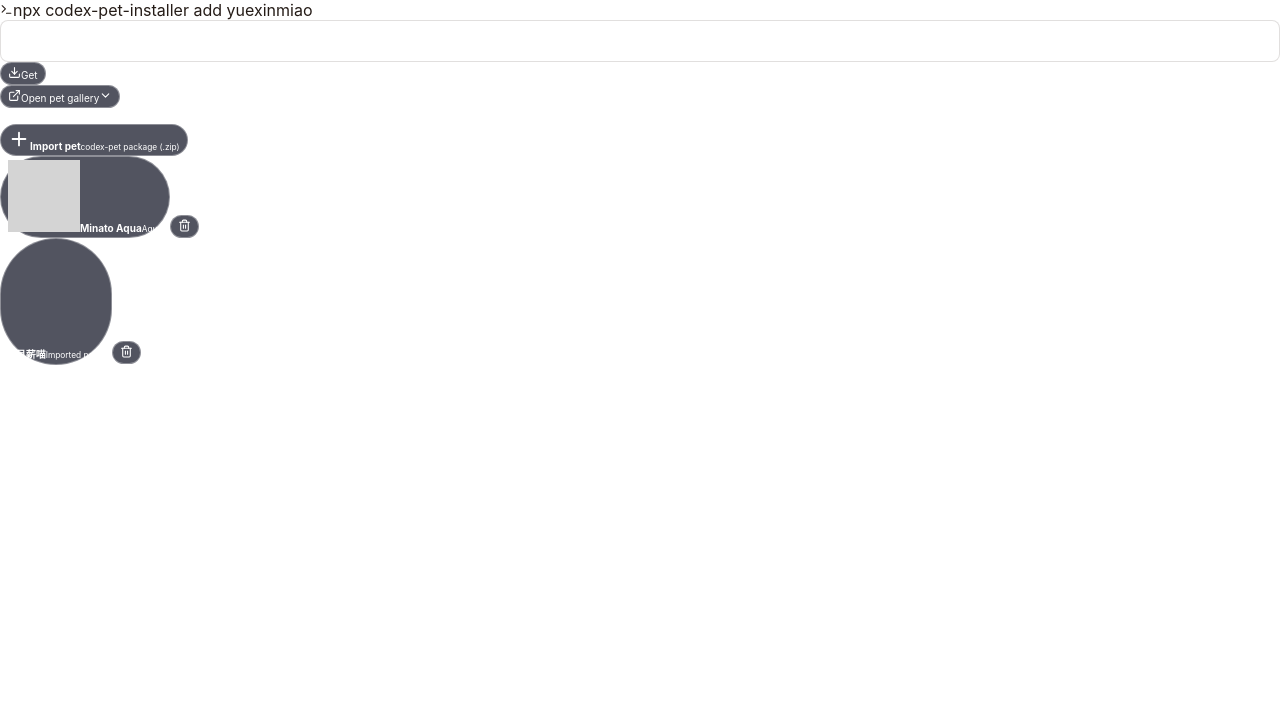
it: PetThemeGrid downloaded-archive lifecycle › discards the downloaded archive when the import dialog is dismissed
Type "npx codex-pet-installer add boba" into the field named "Install command". click: (640, 41)
box: left=0, top=20, right=1279, bottom=62
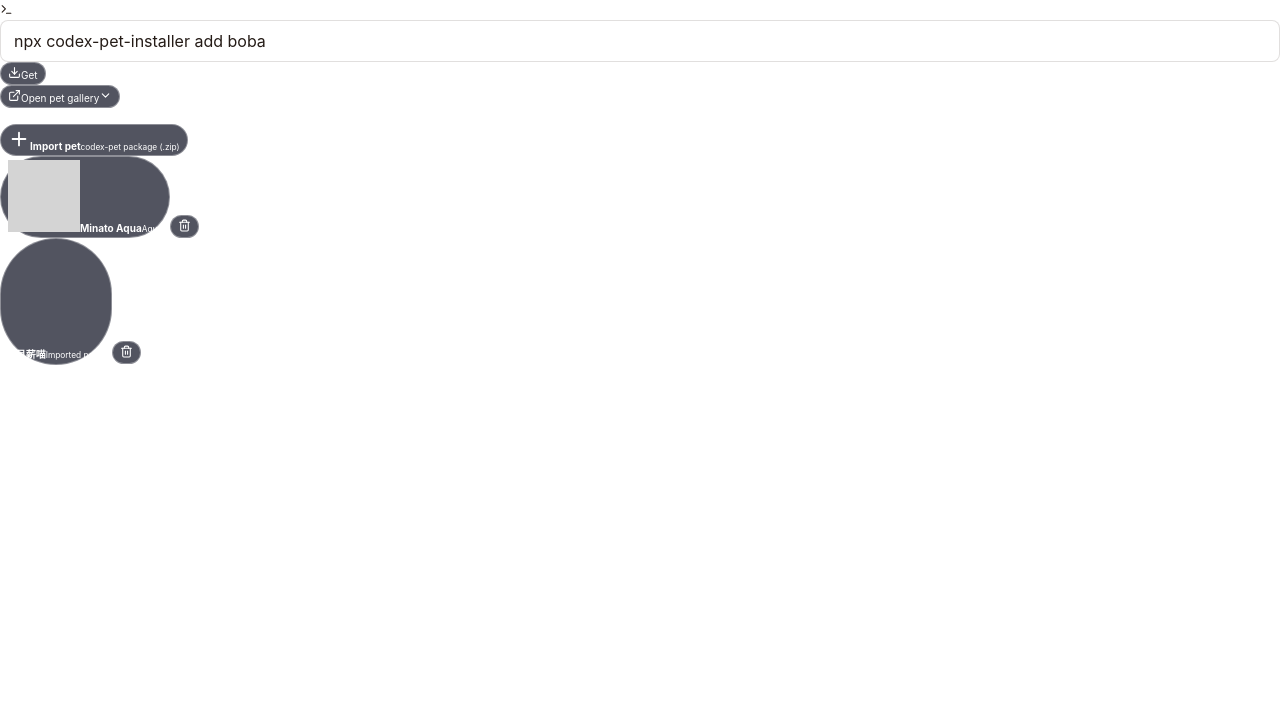
Click the button "Get". click: click(23, 74)
box: left=0, top=62, right=46, bottom=85
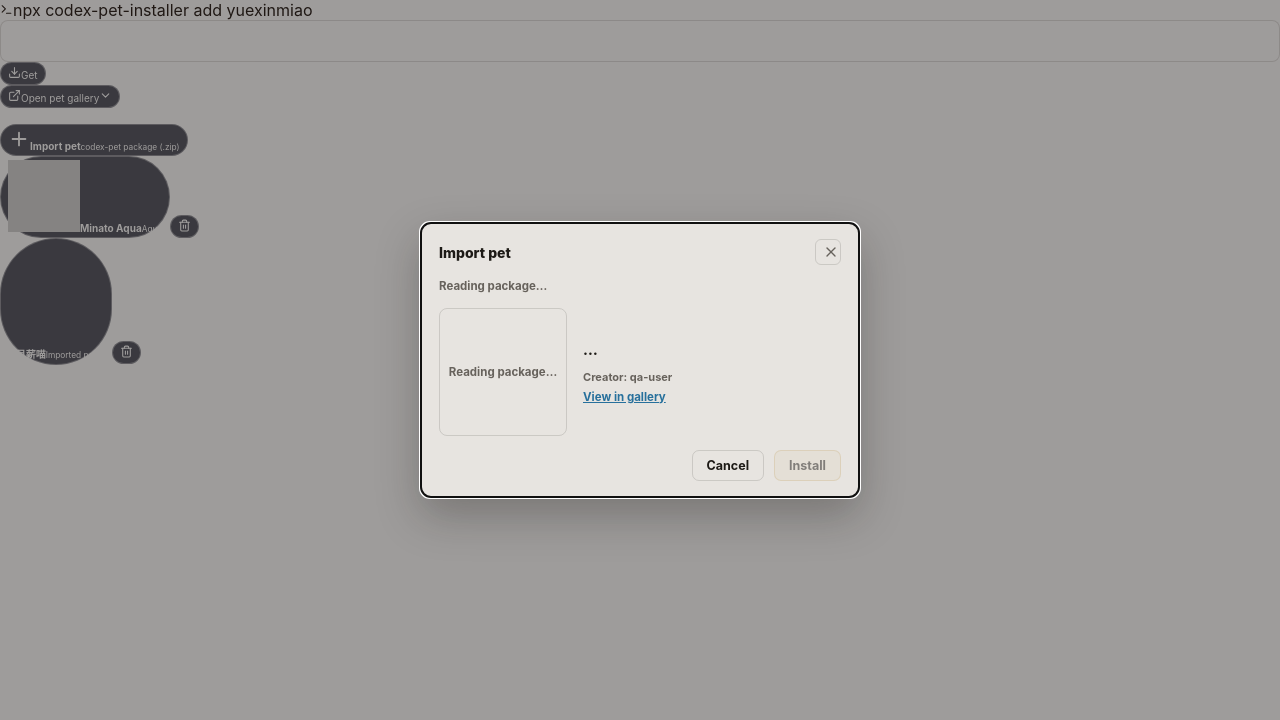
Result: the dialog is shown
Click the button "Cancel". click: click(728, 466)
box: left=692, top=450, right=764, bottom=481
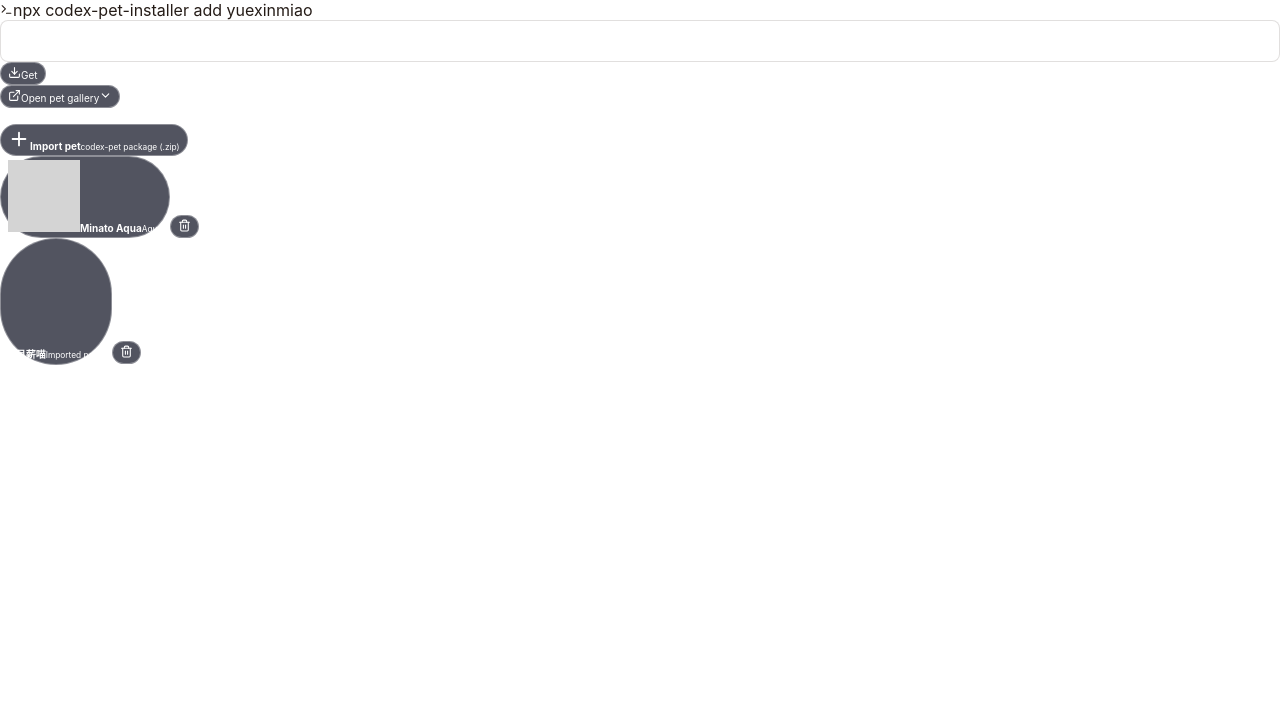
Result: the dialog is gone
